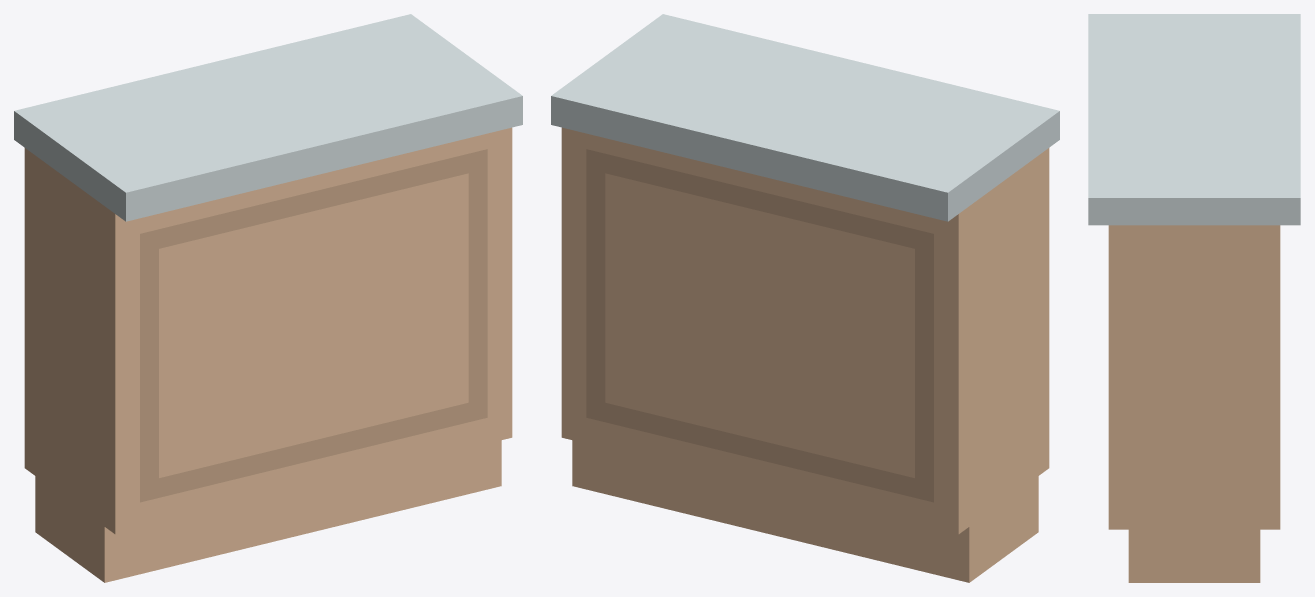
File: kitchenBar.glb
3 views of the same model, side by side, from view 1: azimuth 30°, elevation 25°; view 2: azimuth 150°, elevation 25°; view 3: azimuth 270°, elevation 25° (orthographic). The views are drawn at different scales.
Visible parts, largest first — view 1: kitchenBar(Clone); view 2: kitchenBar(Clone); view 3: kitchenBar(Clone).
Part boxes in pixels (<box>): kitchenBar(Clone): <box>14,14,522,582</box>; kitchenBar(Clone): <box>551,14,1059,582</box>; kitchenBar(Clone): <box>1088,14,1300,582</box>.
Bounding box in the file's own units: 0.43 × 0.42 × 0.21.
